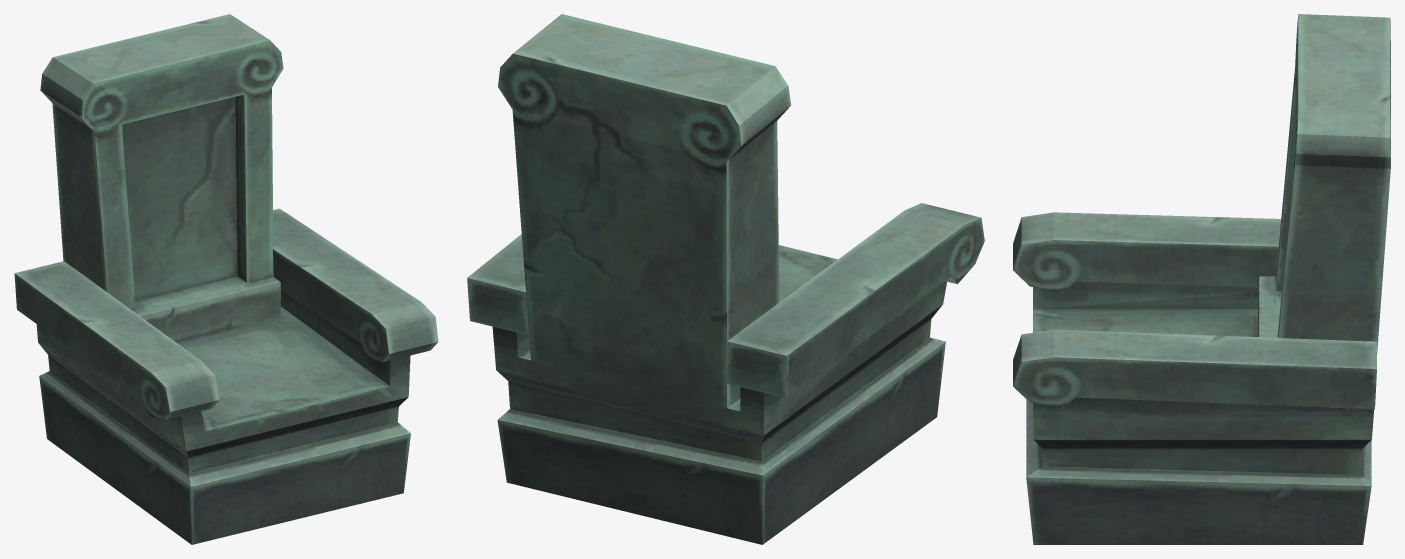
File: crypt_throne01.fbx
3 renders of one model, left to right at view 1: azimuth 30°, elevation 25°; view 2: azimuth 150°, elevation 25°; view 3: azimuth 270°, elevation 25°, orthographic. The views are drawn at different scales.
Parts seen in each view (by area): view 1: obj0.051; view 2: obj0.051; view 3: obj0.051.
Boxes of the visible parts, x1,y1,x2,y2 form: obj0.051: (14, 14, 438, 544); obj0.051: (467, 14, 984, 544); obj0.051: (1013, 14, 1390, 544).
Bounding box in the file's own units: 1.28 × 1.68 × 1.36.
